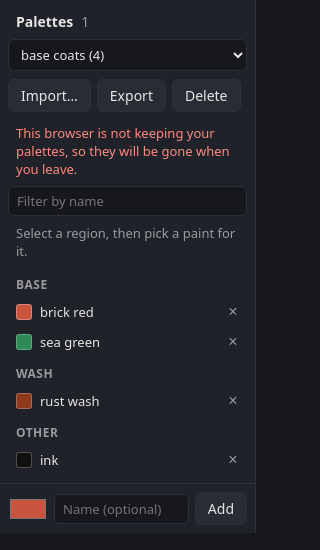
Test case: PalettePanel › removes a color
Click the button named "Remove ink".
click(233, 460)  # box [219,445,247,475]
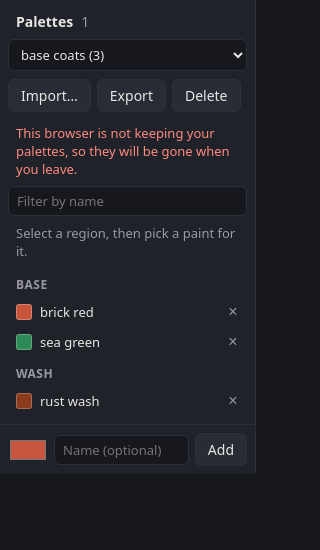
Now the button "ink" is gone
